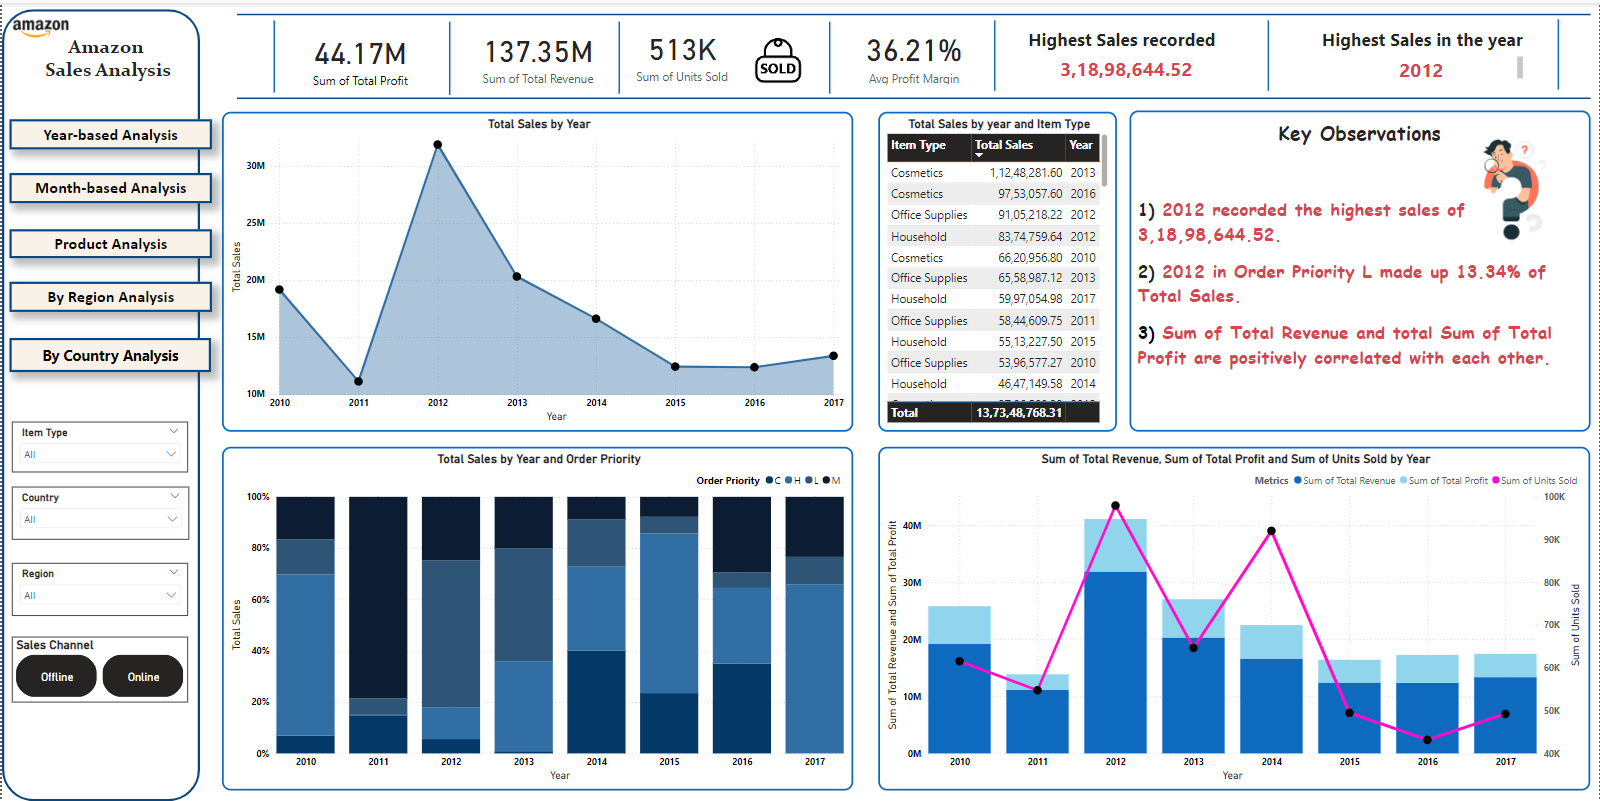

The dashboard page shown, as its layout file describes it:
{"tool":"powerbi","page":{"name":"Overview","canvas":[2200,1100],"ordinal":1},"visuals":[{"type":"shape","box":[0,9.3,272.8,1091],"z":0,"group":"g1"},{"type":"shape","box":[323.2,0,1864.5,31.8],"z":0},{"type":"textbox","box":[35.5,39.2,220.4,84.1],"z":1000,"group":"g1"},{"type":"shape","box":[323.2,115.8,1864.5,31.8],"z":1000},{"type":"card","fields":{"Values":["Sum(Amazon Sales data.Total Profit)"]},"box":[412.9,31.8,160.7,89.7],"z":2000},{"type":"actionButton","box":[10.4,235.6,278.9,41.6],"z":2000,"group":"g1"},{"type":"shape","box":[612.8,26.2,7.5,100.9],"z":3000},{"type":"actionButton","box":[10.4,311.8,278.9,39.8],"z":3000,"group":"g1"},{"type":"shape","box":[844.4,26.2,13.1,99],"z":4000},{"type":"actionButton","box":[10.4,384.5,278.9,41.6],"z":4000,"group":"g1"},{"type":"card","fields":{"Values":["Sum(Amazon Sales data.Total Revenue)"]},"box":[653.9,29.9,168.1,87.8],"z":5000},{"type":"slicer","fields":{"Values":["Amazon Sales data.Item Type"]},"box":[13.9,576.8,242.5,69.3],"z":5000,"group":"g1"},{"type":"textbox","box":[1399.3,29.9,298.9,44.8],"z":6000},{"type":"slicer","fields":{"Values":["Amazon Sales data.Country"]},"box":[13.9,666.9,244.3,72.8],"z":6000,"group":"g1"},{"type":"shape","box":[1743,24.3,3.7,97.1],"z":7000},{"type":"slicer","fields":{"Values":["Amazon Sales data.Region"]},"box":[13.9,772.6,242.5,72.8],"z":7000,"group":"g1"},{"type":"areaChart","fields":{"Category":["Amazon Sales data.Year"],"Y":["Amazon Sales data.Total Sales"]},"box":[302.8,150.4,869.3,440.8],"z":8000},{"type":"advancedSlicerVisual","fields":{"Values":["Amazon Sales data.Sales Channel"]},"box":[13.9,873.1,242.5,90.1],"z":8000,"group":"g1"},{"type":"textbox","box":[1406.8,67.3,291.4,48.6],"z":9000},{"type":"actionButton","box":[10.4,161.1,278.9,41.6],"z":9000,"group":"g1"},{"type":"image","box":[9.3,14.9,89.7,43],"z":10000,"group":"g1"},{"type":"hundredPercentStackedColumnChart","fields":{"Category":["Amazon Sales data.Year"],"Series":["Amazon Sales data.Order Priority"],"Y":["Amazon Sales data.Total Sales"]},"box":[302.8,611.8,869.3,473.8],"z":10000},{"type":"card","fields":{"Values":["Sum(Amazon Sales data.Units Sold)"]},"box":[857.5,26.2,158.8,89.7],"z":11000},{"type":"shape","box":[1135.9,26.2,7.5,99],"z":12000},{"type":"lineStackedColumnComboChart","fields":{"Category":["Amazon Sales data.Year"],"Y":["Sum(Amazon Sales data.Total Revenue)","Sum(Amazon Sales data.Total Profit)"],"Y2":["Sum(Amazon Sales data.Units Sold)"]},"box":[1207.1,611.8,980.5,473.8],"z":13000},{"type":"card","fields":{"Values":["Amazon Sales data.Avg Profit Margin"]},"box":[1165.8,26.2,181.2,91.5],"z":14000},{"type":"shape","box":[1363.8,24.3,7.5,97.1],"z":15000},{"type":"tableEx","title":"Total Sales by year and Item Type","fields":{"Values":["Amazon Sales data.Item Type","Amazon Sales data.Total Sales","Amazon Sales data.Year"]},"box":[1206.9,149.5,328.8,440.9],"z":16000},{"type":"textbox","box":[1552.5,147.6,635.2,442.8],"z":17000},{"type":"image","box":[1989.9,164.8,173,181.3],"z":18000},{"type":"shape","box":[368,24.3,13.1,99],"z":19000},{"type":"image","box":[1016.3,41.1,106.5,76.6],"z":20000},{"type":"textbox","box":[1806.6,29.9,300.8,43],"z":21000},{"type":"textbox","box":[1817.8,69.1,282.1,43],"z":22000},{"type":"shape","box":[2142.8,22.4,3.7,97.1],"z":23000},{"type":"group","id":"g1","title":"Group 1","box":[0,9.3,289.3,1091],"z":24000},{"type":"shape","box":[10.2,461.2,277.6,46.9],"z":25000}]}

Visuals, with their boxes in screenshot pixels (x1, y1, x2, y2), scaled from the page's 2200x1100 canvas onto the 1600x801 screenshot:
shape: box=[0, 7, 198, 800]
shape: box=[235, 0, 1591, 23]
textbox: box=[26, 29, 186, 90]
shape: box=[235, 84, 1591, 107]
card - Sum(Amazon Sales data.Total Profit): box=[300, 23, 417, 88]
actionButton: box=[8, 172, 210, 202]
shape: box=[446, 19, 451, 93]
actionButton: box=[8, 227, 210, 256]
shape: box=[614, 19, 624, 91]
actionButton: box=[8, 280, 210, 310]
card - Sum(Amazon Sales data.Total Revenue): box=[476, 22, 598, 86]
slicer - Amazon Sales data.Item Type: box=[10, 420, 186, 470]
textbox: box=[1018, 22, 1235, 54]
slicer - Amazon Sales data.Country: box=[10, 486, 188, 539]
shape: box=[1268, 18, 1270, 88]
slicer - Amazon Sales data.Region: box=[10, 563, 186, 616]
areaChart - Amazon Sales data.Year x Amazon Sales data.Total Sales: box=[220, 110, 852, 431]
advancedSlicerVisual - Amazon Sales data.Sales Channel: box=[10, 636, 186, 701]
textbox: box=[1023, 49, 1235, 84]
actionButton: box=[8, 117, 210, 148]
image: box=[7, 11, 72, 42]
hundredPercentStackedColumnChart - Amazon Sales data.Year x Amazon Sales data.Order Priority: box=[220, 446, 852, 791]
card - Sum(Amazon Sales data.Units Sold): box=[624, 19, 739, 84]
shape: box=[826, 19, 832, 91]
lineStackedColumnComboChart - Amazon Sales data.Year x Sum(Amazon Sales data.Total Revenue): box=[878, 446, 1591, 791]
card - Amazon Sales data.Avg Profit Margin: box=[848, 19, 980, 86]
shape: box=[992, 18, 997, 88]
"Total Sales by year and Item Type" tableEx: box=[878, 109, 1117, 430]
textbox: box=[1129, 107, 1591, 430]
image: box=[1447, 120, 1573, 252]
shape: box=[268, 18, 277, 90]
image: box=[739, 30, 817, 86]
textbox: box=[1314, 22, 1533, 53]
textbox: box=[1322, 50, 1527, 82]
shape: box=[1558, 16, 1561, 87]
"Group 1" group: box=[0, 7, 210, 800]
shape: box=[7, 336, 209, 370]
